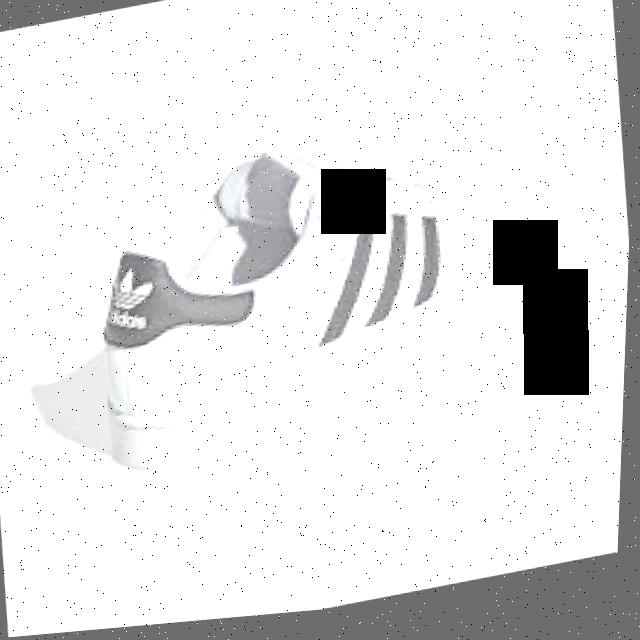shoe: (85, 109, 543, 489)
